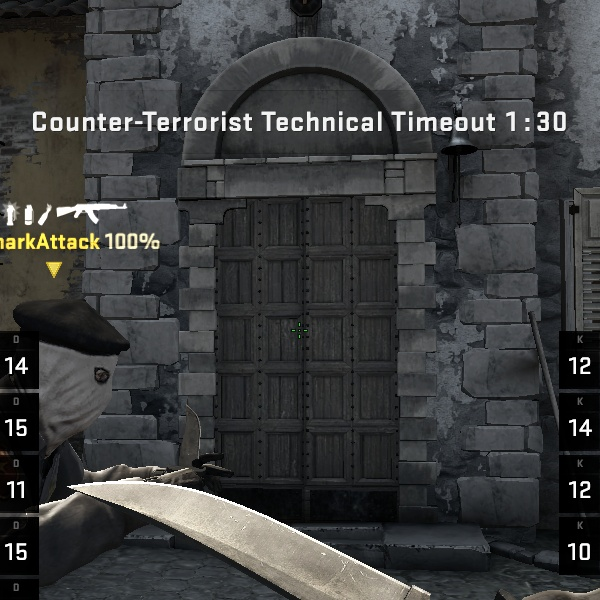t_body: (1, 280, 151, 594)
